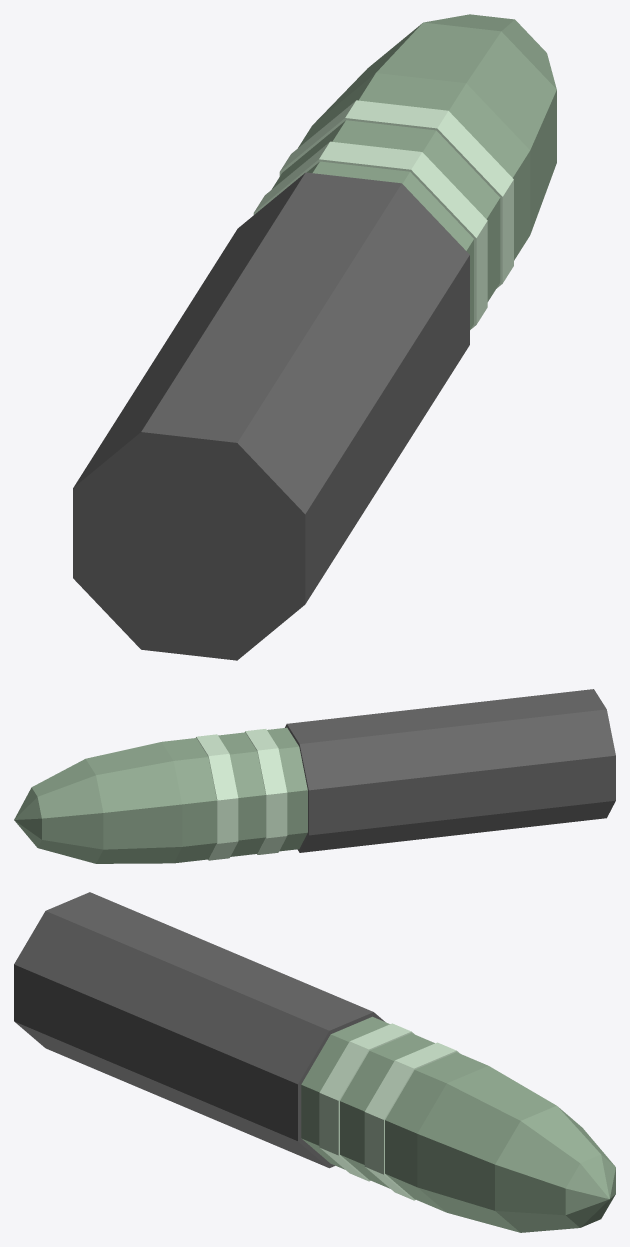
The model's file is ce_ammo2_rcl84_smk_a.obj.
3 views of the same model, one above another, from view 1: azimuth 30°, elevation 25°; view 2: azimuth 150°, elevation 25°; view 3: azimuth 270°, elevation 25° (orthographic). The views are drawn at different scales.
Parts seen in each view (by area): view 1: ce_ammo2_rcl84_smk_a_0, ce_ammo2_rcl84_smk_a_6, ce_ammo2_rcl84_smk_a_5, ce_ammo2_rcl84_smk_a_3, ce_ammo2_rcl84_smk_a_4, ce_ammo2_rcl84_smk_a_2, ce_ammo2_rcl84_smk_a_1, ce_ammo2_rcl84_smk_a_7; view 2: ce_ammo2_rcl84_smk_a_0, ce_ammo2_rcl84_smk_a_6, ce_ammo2_rcl84_smk_a_7, ce_ammo2_rcl84_smk_a_5, ce_ammo2_rcl84_smk_a_3, ce_ammo2_rcl84_smk_a_4, ce_ammo2_rcl84_smk_a_2, ce_ammo2_rcl84_smk_a_1, ce_ammo2_rcl84_smk_a_8; view 3: ce_ammo2_rcl84_smk_a_0, ce_ammo2_rcl84_smk_a_6, ce_ammo2_rcl84_smk_a_7, ce_ammo2_rcl84_smk_a_5, ce_ammo2_rcl84_smk_a_3, ce_ammo2_rcl84_smk_a_2, ce_ammo2_rcl84_smk_a_4, ce_ammo2_rcl84_smk_a_1, ce_ammo2_rcl84_smk_a_8.
Boxes of the visible parts, x1,y1,x2,y2 form: ce_ammo2_rcl84_smk_a_0: (73, 172, 469, 660); ce_ammo2_rcl84_smk_a_6: (313, 22, 556, 234); ce_ammo2_rcl84_smk_a_5: (298, 73, 530, 260); ce_ammo2_rcl84_smk_a_3: (271, 120, 500, 301); ce_ammo2_rcl84_smk_a_4: (279, 100, 513, 288); ce_ammo2_rcl84_smk_a_2: (253, 141, 487, 329); ce_ammo2_rcl84_smk_a_1: (307, 161, 473, 329); ce_ammo2_rcl84_smk_a_7: (423, 14, 556, 89); ce_ammo2_rcl84_smk_a_0: (285, 689, 615, 852); ce_ammo2_rcl84_smk_a_6: (86, 742, 182, 863); ce_ammo2_rcl84_smk_a_7: (32, 759, 103, 863); ce_ammo2_rcl84_smk_a_5: (162, 738, 216, 863); ce_ammo2_rcl84_smk_a_3: (218, 732, 265, 856); ce_ammo2_rcl84_smk_a_4: (196, 734, 238, 860); ce_ammo2_rcl84_smk_a_2: (245, 729, 287, 854); ce_ammo2_rcl84_smk_a_1: (267, 727, 307, 851); ce_ammo2_rcl84_smk_a_8: (14, 787, 41, 847); ce_ammo2_rcl84_smk_a_0: (14, 892, 384, 1168); ce_ammo2_rcl84_smk_a_6: (417, 1066, 556, 1232); ce_ammo2_rcl84_smk_a_7: (495, 1105, 614, 1232); ce_ammo2_rcl84_smk_a_5: (385, 1052, 488, 1212); ce_ammo2_rcl84_smk_a_3: (340, 1033, 434, 1188); ce_ammo2_rcl84_smk_a_2: (319, 1023, 414, 1181); ce_ammo2_rcl84_smk_a_4: (364, 1042, 460, 1200); ce_ammo2_rcl84_smk_a_1: (301, 1016, 389, 1169); ce_ammo2_rcl84_smk_a_8: (565, 1154, 615, 1227).
Bounding box in the file's own units: 0.6596 × 0.1662 × 0.6596.
